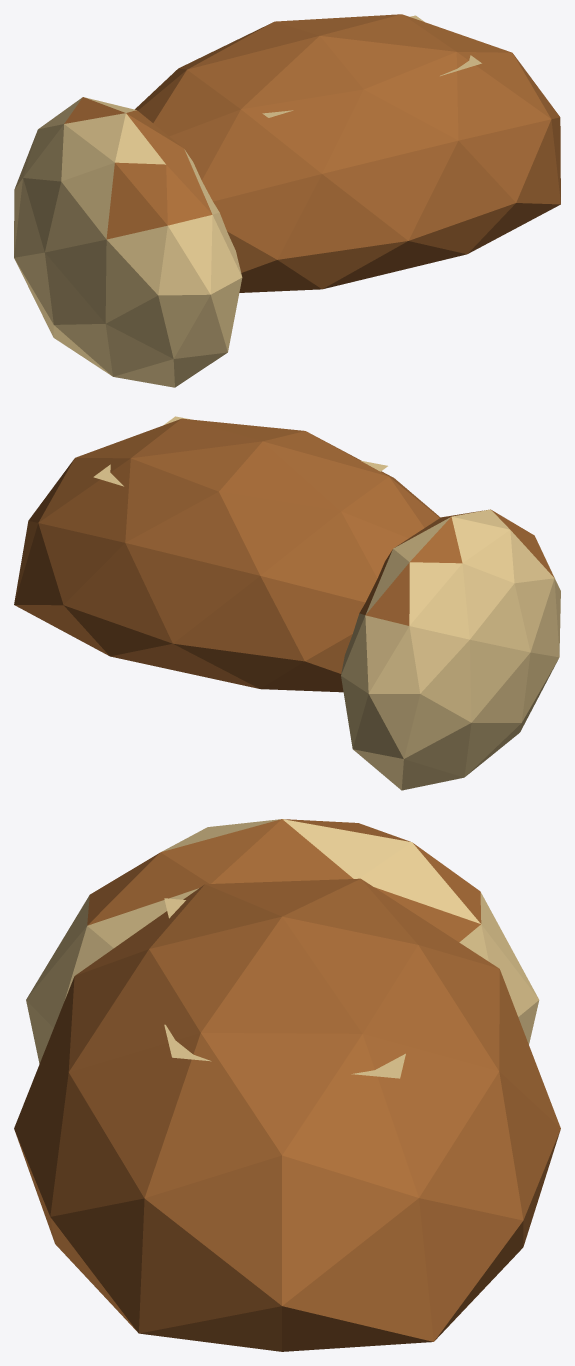
The model's file is bog_loaf.glb.
3 renders of one model, top to bottom at view 1: azimuth 30°, elevation 25°; view 2: azimuth 150°, elevation 25°; view 3: azimuth 270°, elevation 25°, orthographic. The views are drawn at different scales.
Parts seen in each view (by area): view 1: bog_loaf.001; view 2: bog_loaf.001; view 3: bog_loaf.001.
Boxes of the visible parts, x1=… form: bog_loaf.001: x1=14, y1=14, x2=560, y2=387; bog_loaf.001: x1=14, y1=416, x2=560, y2=790; bog_loaf.001: x1=14, y1=819, x2=560, y2=1351.
Size of the model in its own units: 0.24 by 0.1304 by 0.1459.
